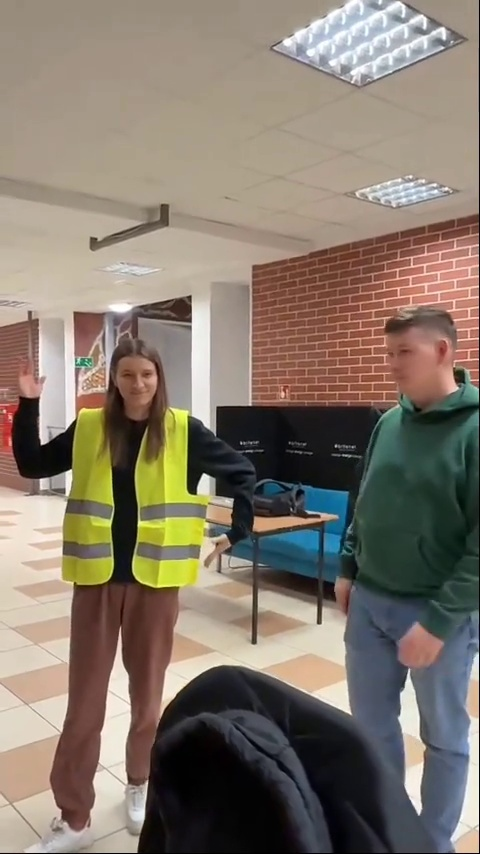no vest: (347, 300, 479, 844)
vest: (11, 338, 248, 854)
